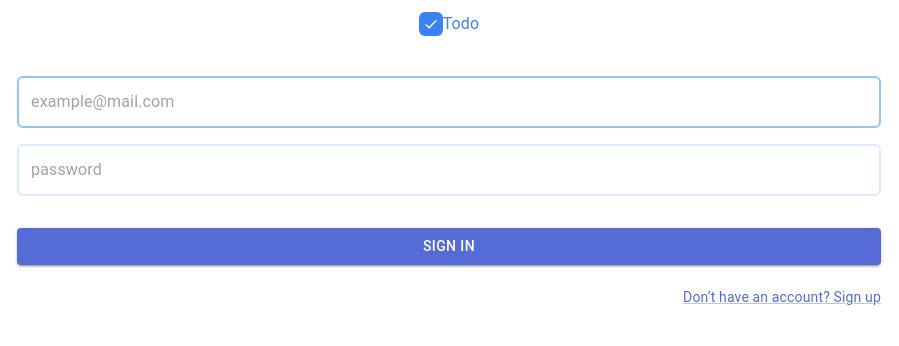
Test case: Signin form › validation of inputs › should display matching error when email is invalid
In the field: (449,102) [31,86,867,118], type "email"
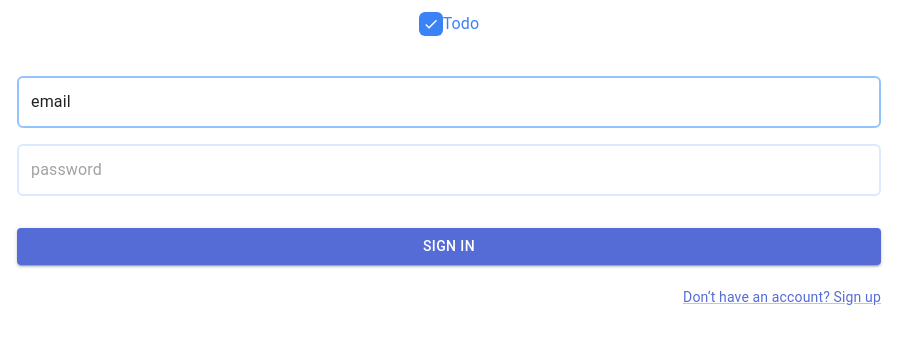
In the password field with placeholder "password": (449,170) [31,154,867,186], type "password"
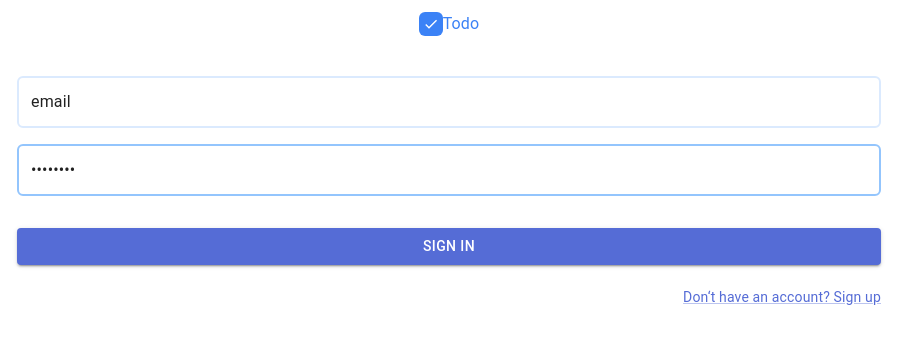
Click the button "Sign in": (449,246) [17,228,881,264]
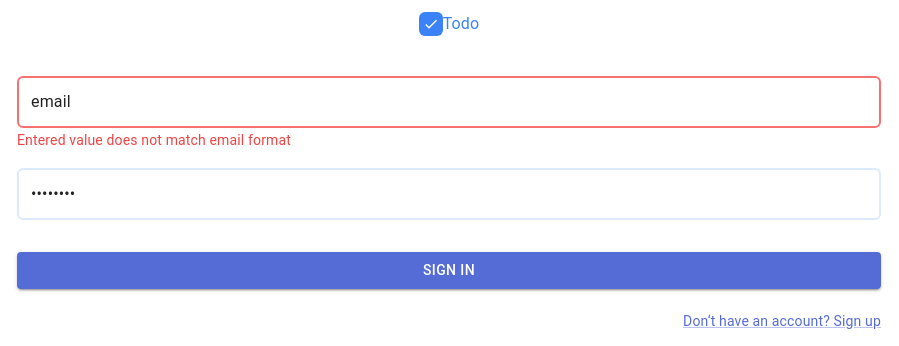
Expected: the message reads "Entered value does not match email format", [17,132,291,148]
